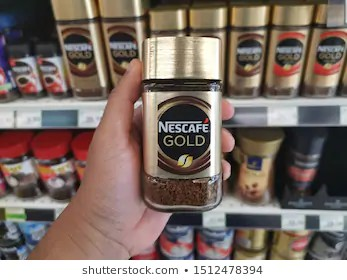nescafe-classic/gold-med: (128, 32, 227, 214), (51, 1, 113, 101), (97, 2, 150, 100), (267, 5, 313, 100), (303, 1, 343, 98), (230, 5, 267, 100)
nescafe-classic/gold-small: (36, 46, 66, 102), (8, 46, 38, 102)
